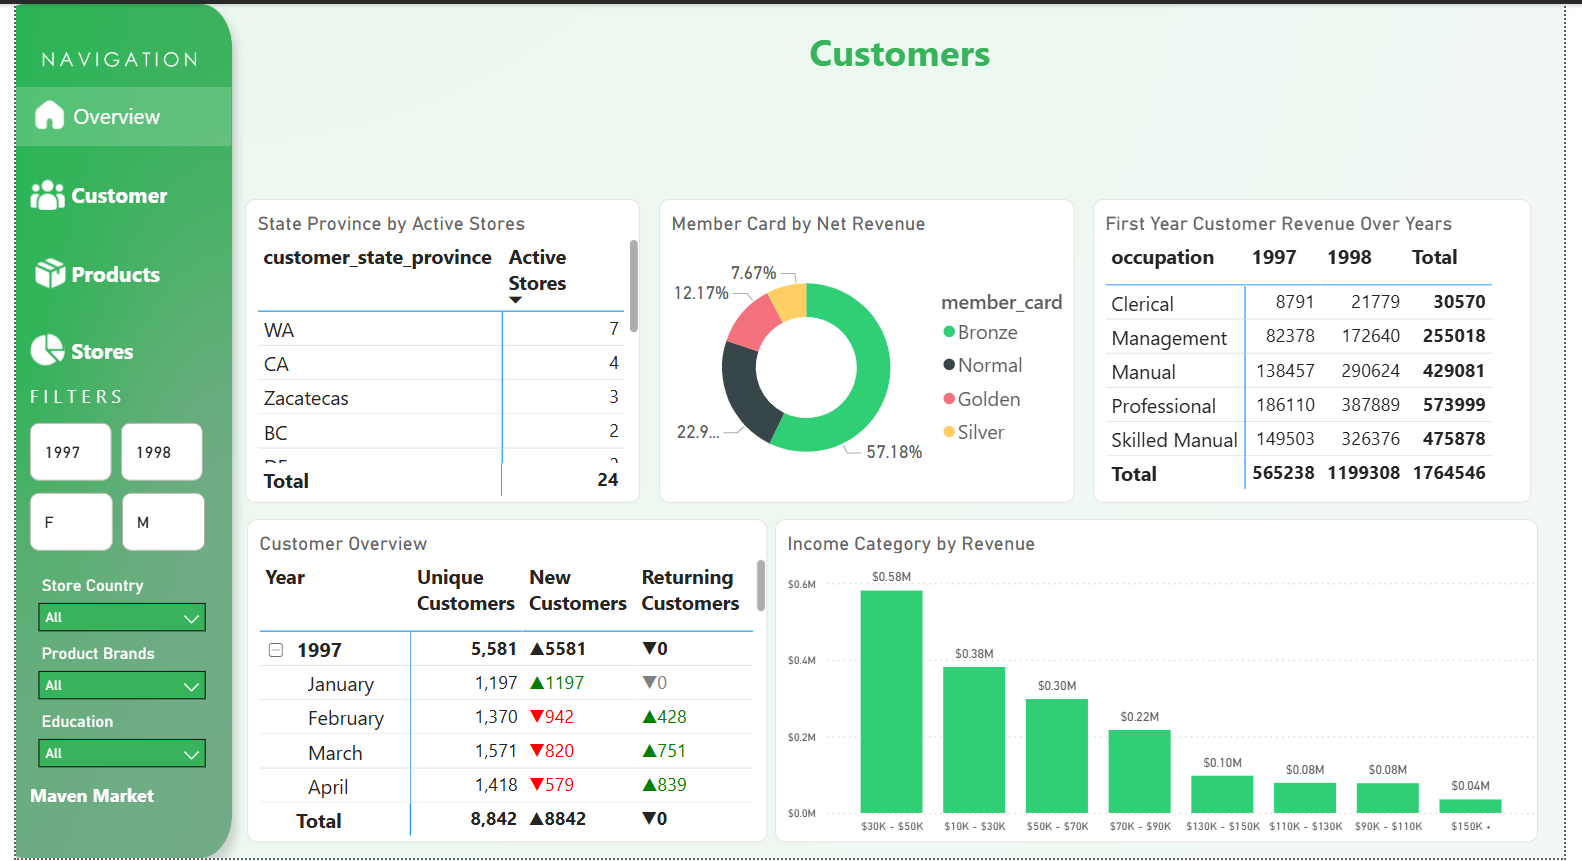

The page's visual inventory and layout, read from the dashboard file:
{"tool":"powerbi","page":{"name":"Customers","canvas":[1360,750],"ordinal":1},"visuals":[{"type":"image","box":[0,0,202,750],"z":0},{"type":"actionButton","box":[10.8,70.6,164.5,54.2],"z":1000},{"type":"actionButton","box":[9.2,139.3,165.9,55.3],"z":2000},{"type":"shape","box":[0,72.6,188.9,51.8],"z":3000},{"type":"actionButton","box":[9.2,209.1,164.8,54.1],"z":4000},{"type":"actionButton","box":[9.2,277.7,164.8,53],"z":5000},{"type":"textbox","box":[7.3,679.1,148.2,36.4],"z":7000},{"type":"textbox","box":[643.7,14.2,265.1,58.4],"z":9000},{"type":"image","box":[16.1,35.7,150.9,30],"z":10000},{"type":"advancedSlicerVisual","fields":{"Values":["Calendar.Year"]},"box":[7.3,362.7,163.6,61.8],"z":11000},{"type":"textbox","box":[7.3,328.2,180,34.5],"z":12000},{"type":"slicer","fields":{"Values":["Stores.store_country"]},"box":[9.5,498.1,167.2,57.2],"z":13000},{"type":"slicer","fields":{"Values":["Products.product_brand"]},"box":[9.5,557.6,167.2,57.2],"z":14000},{"type":"slicer","fields":{"Values":["Customers.education"]},"box":[9.5,617,167.2,57.2],"z":15000},{"type":"pivotTable","title":"First Year Customer Revenue Over Years","fields":{"Columns":["Calendar.Year"],"Rows":["Customers.occupation"],"Values":["_Measures.FirstYearCustomerRevenue"]},"box":[946.1,171.4,385.5,267.1],"z":16000},{"type":"columnChart","title":"Income Category by Revenue","fields":{"Category":["Customers.yearly_income"],"Y":["_Measures.Total Revenue"]},"box":[666.7,452.7,669.6,284.1],"z":17000},{"type":"donutChart","title":"Member Card by Net Revenue","fields":{"Category":["Customers.member_card"],"Y":["_Measures.Net Revenue"]},"box":[565.1,171.4,364.6,267.1],"z":18000},{"type":"pivotTable","title":"Customer Overview","fields":{"Rows":["Calendar.Date.Variation.Date Hierarchy.Year","Calendar.Date.Variation.Date Hierarchy.Month"],"Values":["_Measures.Unique Customers","_Measures.New Customer 2","_Measures.Returning Customer 2"]},"box":[202.5,452.6,456.9,284.1],"z":19000},{"type":"pivotTable","title":"State Province by Active Stores","fields":{"Rows":["Customers.customer_state_province"],"Values":["_Measures.Active Stores"]},"box":[201.5,171.6,347.2,266.6],"z":20000},{"type":"advancedSlicerVisual","fields":{"Values":["Customers.gender"]},"box":[6.6,424.1,164.4,61.4],"z":20001}]}

Visuals, with their boxes on the page's 1360x750 design canvas (x1, y1, x2, y2). These are canvas units, not pixel positions in the 1582x861 screenshot, which may show the page scaled, cropped or inside an application window:
image: (x1=0, y1=0, x2=202, y2=750)
actionButton: (x1=11, y1=71, x2=175, y2=125)
actionButton: (x1=9, y1=139, x2=175, y2=195)
shape: (x1=0, y1=73, x2=189, y2=124)
actionButton: (x1=9, y1=209, x2=174, y2=263)
actionButton: (x1=9, y1=278, x2=174, y2=331)
textbox: (x1=7, y1=679, x2=156, y2=716)
textbox: (x1=644, y1=14, x2=909, y2=73)
image: (x1=16, y1=36, x2=167, y2=66)
advancedSlicerVisual - Calendar.Year: (x1=7, y1=363, x2=171, y2=424)
textbox: (x1=7, y1=328, x2=187, y2=363)
slicer - Stores.store_country: (x1=10, y1=498, x2=177, y2=555)
slicer - Products.product_brand: (x1=10, y1=558, x2=177, y2=615)
slicer - Customers.education: (x1=10, y1=617, x2=177, y2=674)
"First Year Customer Revenue Over Years" pivotTable: (x1=946, y1=171, x2=1332, y2=438)
"Income Category by Revenue" columnChart: (x1=667, y1=453, x2=1336, y2=737)
"Member Card by Net Revenue" donutChart: (x1=565, y1=171, x2=930, y2=438)
"Customer Overview" pivotTable: (x1=202, y1=453, x2=659, y2=737)
"State Province by Active Stores" pivotTable: (x1=202, y1=172, x2=549, y2=438)
advancedSlicerVisual - Customers.gender: (x1=7, y1=424, x2=171, y2=486)
